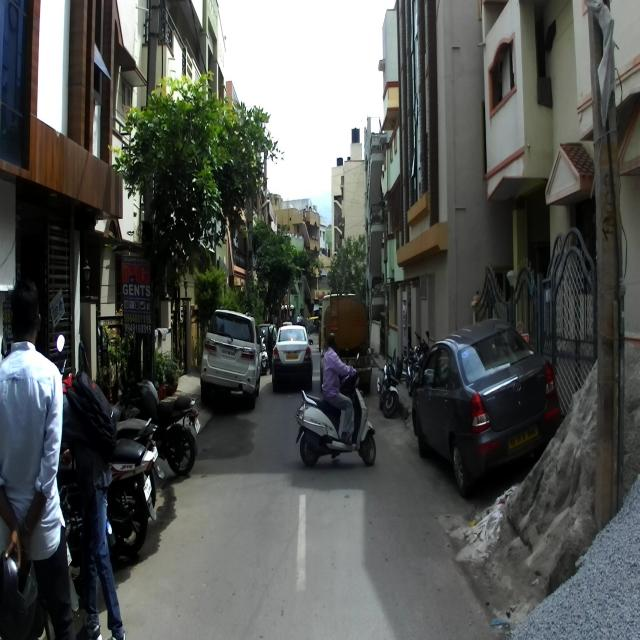Car_Maruti-Suzuki: (271, 319, 313, 391)
Car_Toyota: (411, 318, 561, 498), (200, 309, 262, 409)
motorcycle: (56, 438, 158, 562)
motorcycle_Yamaha: (118, 369, 200, 476)
motorcycle_bajaj: (377, 348, 404, 418)
scooter: (295, 352, 376, 466)
